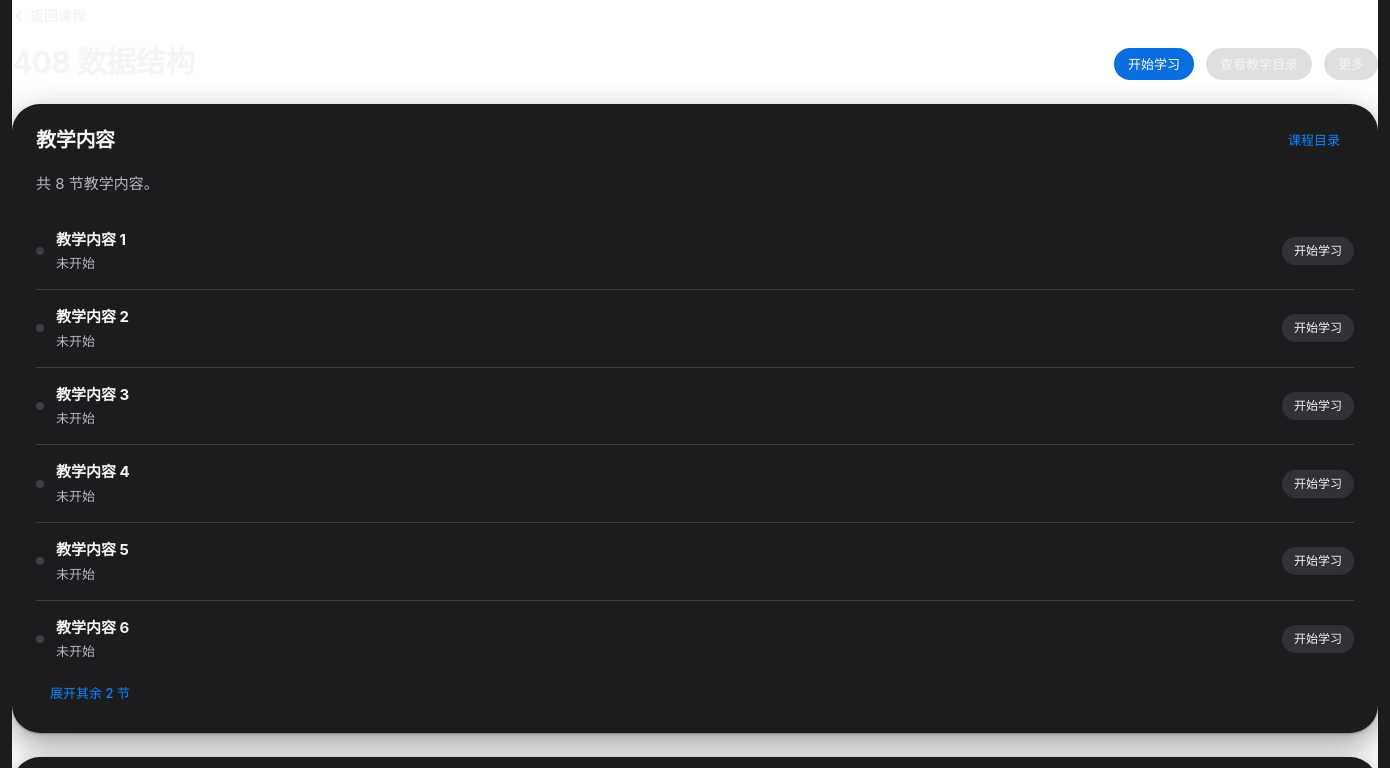
Test: CourseOverviewView › 教学目录先展示六节并可按需展开余下课程内容
Expected: the number of elements with class "outline-item" is 6, [36,230,1354,271]; [36,289,1354,367]; [36,367,1354,444]; [36,444,1354,522]; [36,522,1354,600]; [36,600,1354,677]
Step 1. Click the button "展开其余 2 节" → (90, 693), box [36,677,144,709]
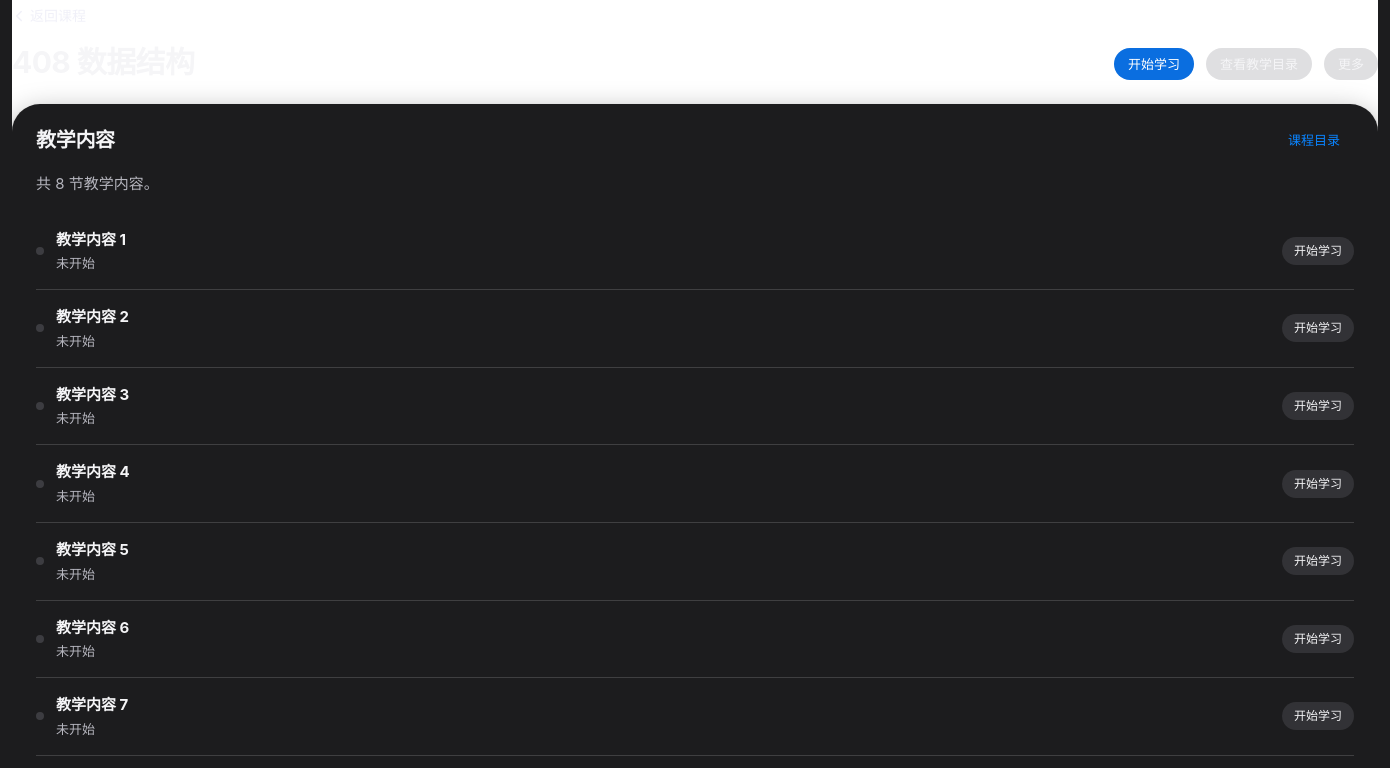
Expected: the number of elements with class "outline-item" is 8
